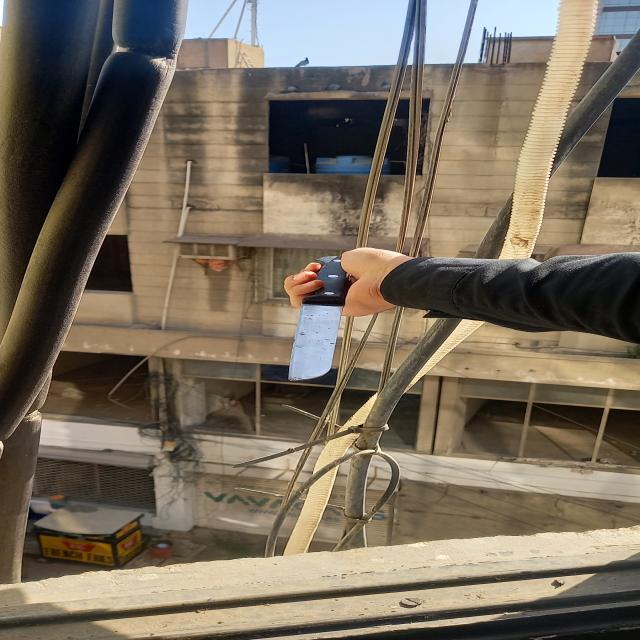knife: (284, 243, 346, 382)
